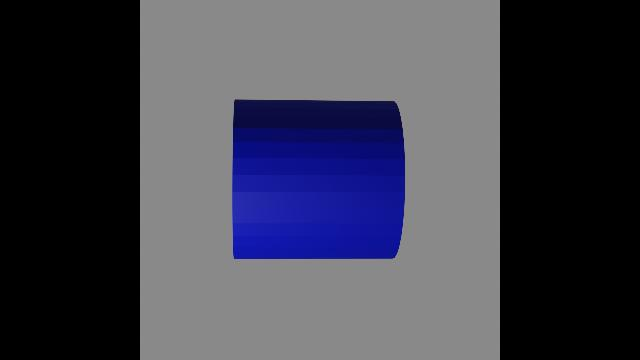Cylinder: (232, 86, 408, 268)
